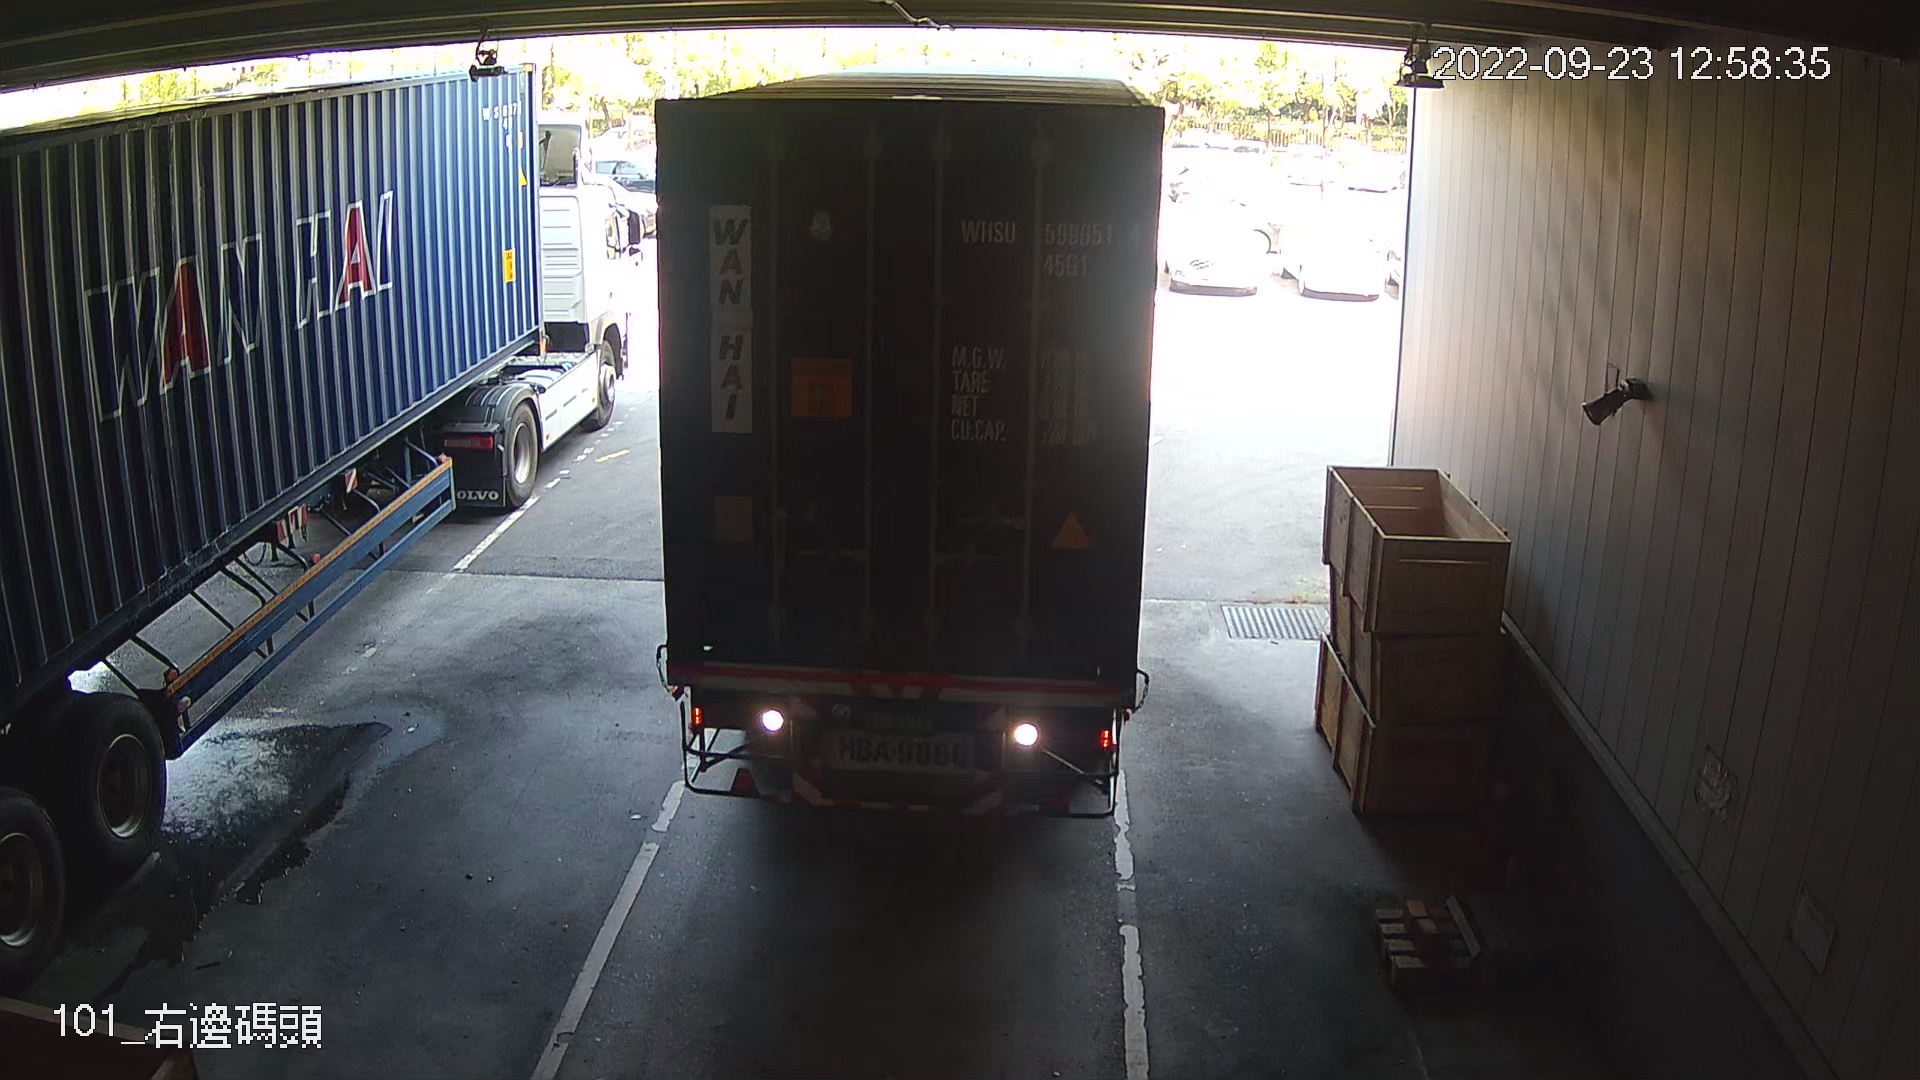container: (949, 204, 1149, 287)
